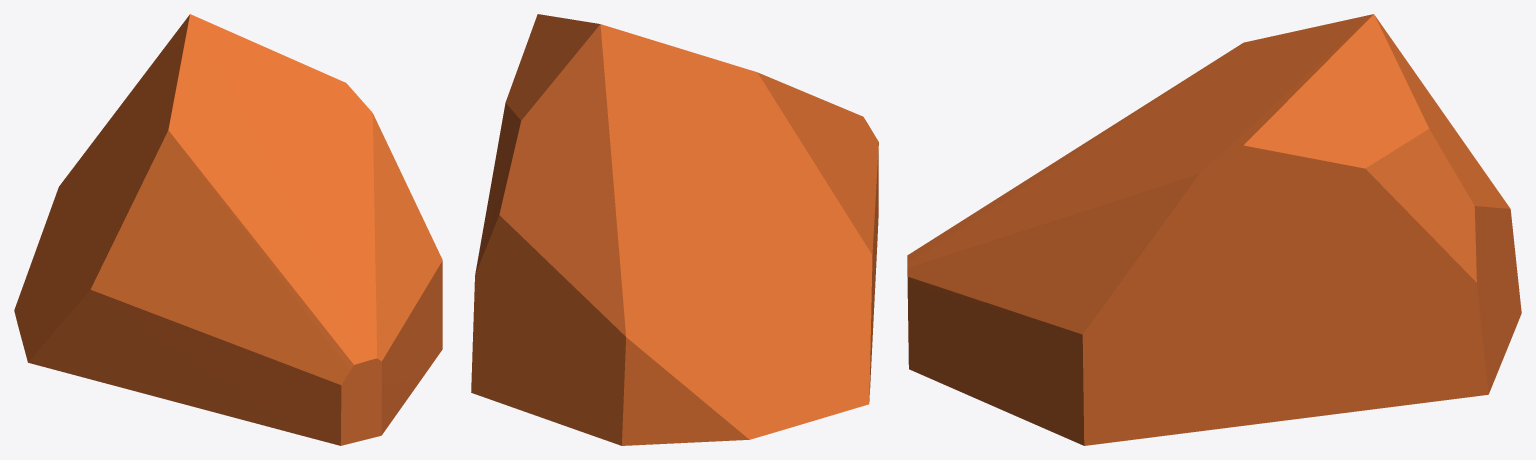
File: SMALLROCK03.fbx
3 views of the same model, side by side, from view 1: azimuth 30°, elevation 25°; view 2: azimuth 150°, elevation 25°; view 3: azimuth 270°, elevation 25° (orthographic). The views are drawn at different scales.
Visible parts, largest first — view 1: SMALLROCK03; view 2: SMALLROCK03; view 3: SMALLROCK03.
Boxes of the visible parts, bbox=[...] form: SMALLROCK03: bbox=[14, 14, 442, 445]; SMALLROCK03: bbox=[471, 14, 878, 445]; SMALLROCK03: bbox=[907, 14, 1521, 445].
Bounding box in the file's own units: 44.82 × 37.54 × 59.18.
